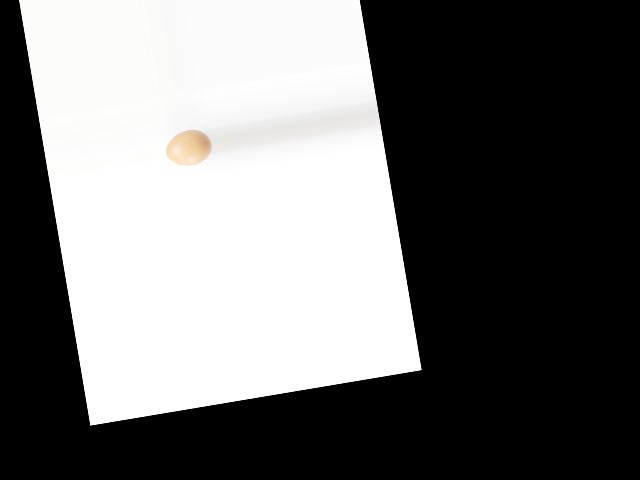egg: (163, 126, 214, 168)
